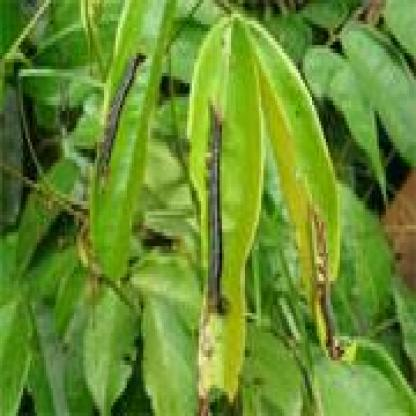armyworm: (200, 92, 232, 326), (98, 41, 148, 180), (309, 206, 351, 361)
